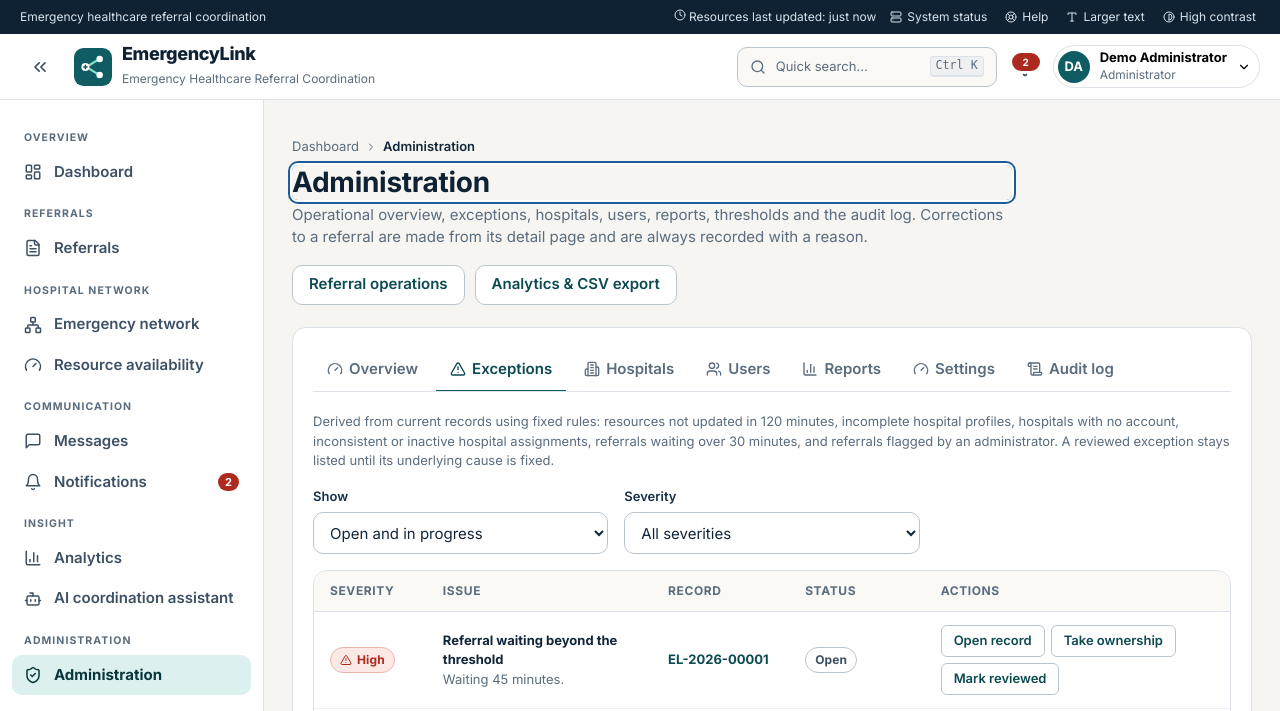
it: administrator tools: ownership, settings, reports, audit, hospitals, saved filters › lets an administrator take ownership of an exception and requires a note to mark it reviewed
Click the button "Take ownership": click(1113, 641) [1051,625,1176,657]
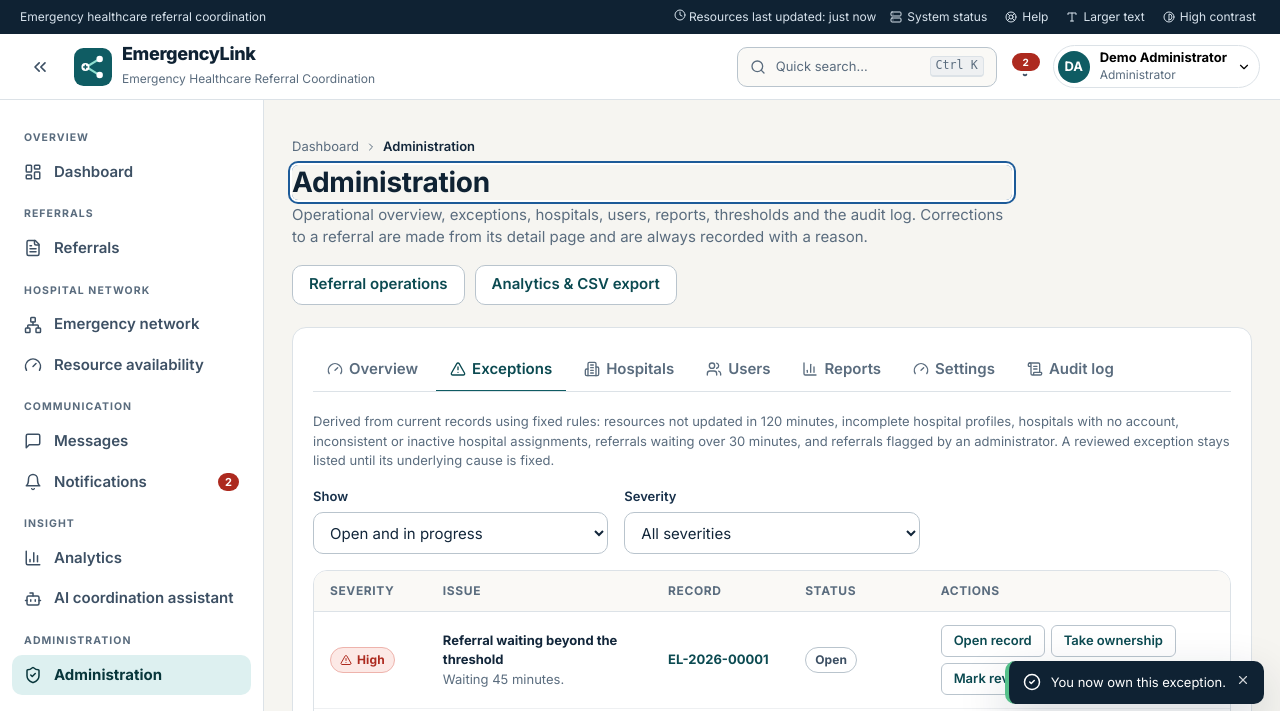
Click the button "Mark reviewed": click(1000, 679) [941,663,1060,695]
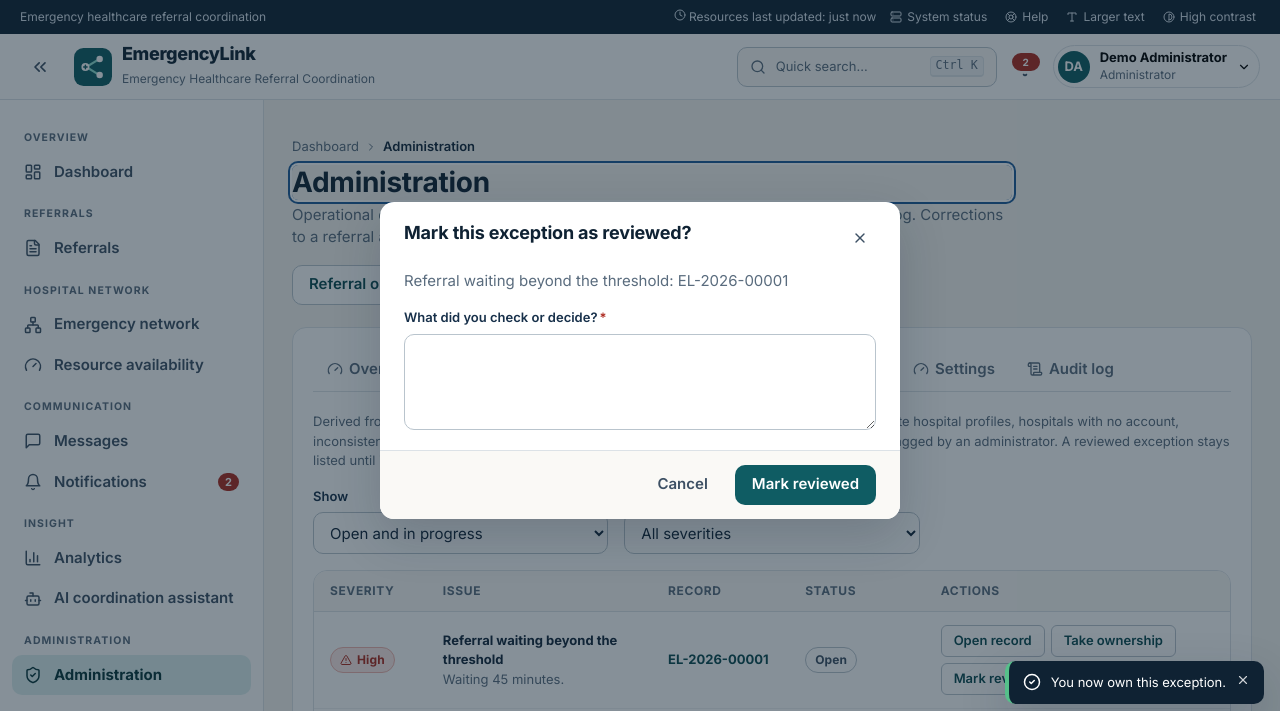
Click the button "Mark reviewed": click(805, 484) [735,464,876,504]
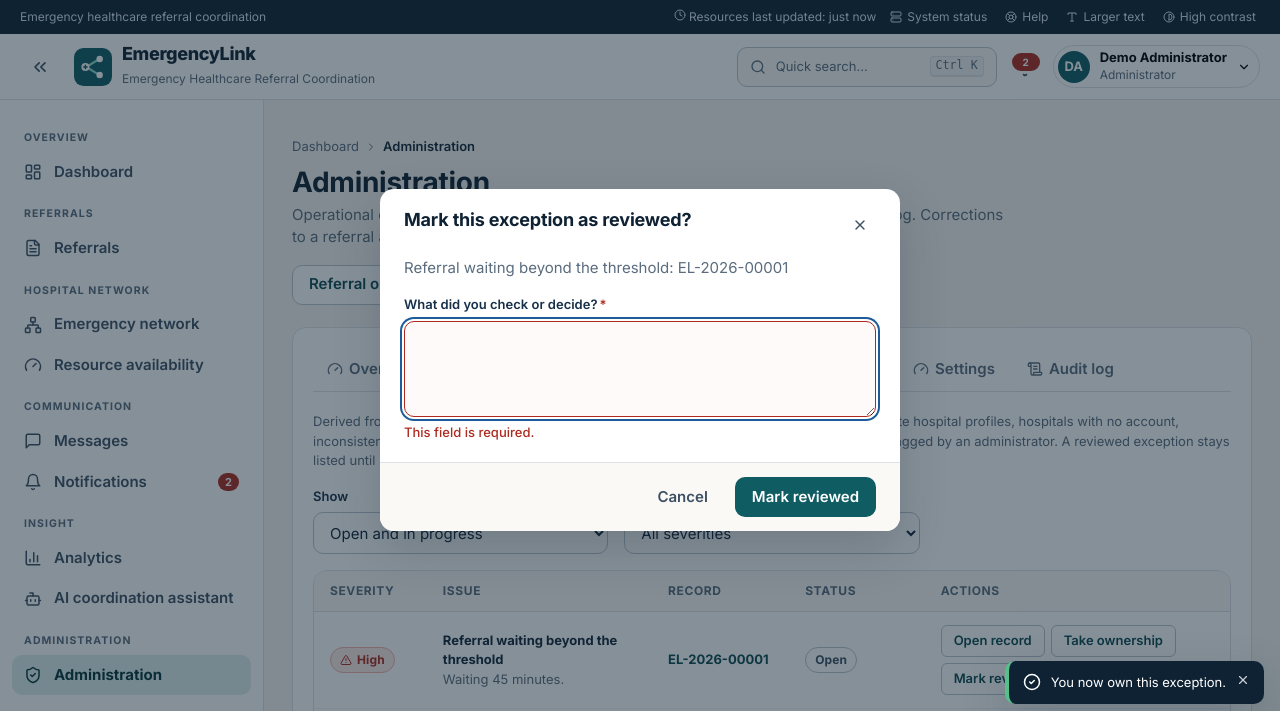
Check: the text "This field is required." is shown, box [404,424,534,440]
